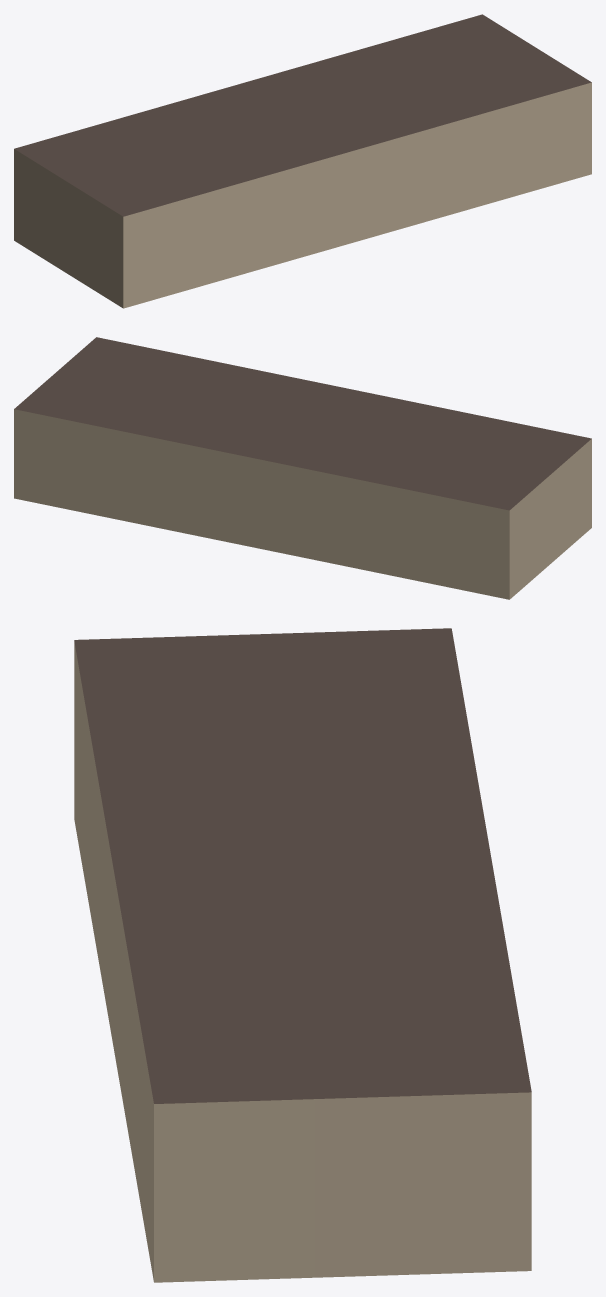
3 views of the same model, one above another, from view 1: azimuth 30°, elevation 25°; view 2: azimuth 150°, elevation 25°; view 3: azimuth 270°, elevation 25° (orthographic). The views are drawn at different scales.
Visible parts, largest first — view 1: HP-w1286955414; view 2: HP-w1286955414; view 3: HP-w1286955414.
Part boxes in pixels (x1,y1,x2,y2): HP-w1286955414: [14, 14, 591, 308]; HP-w1286955414: [14, 337, 591, 599]; HP-w1286955414: [74, 628, 531, 1282].
Bounding box in the file's own units: 51.43 × 9 × 20.9.
